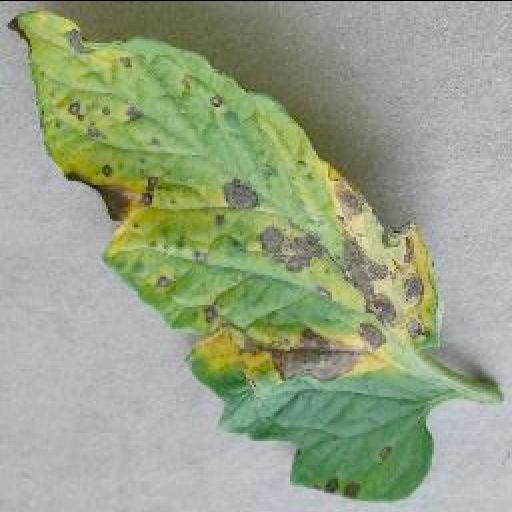disease_tomato: (9, 8, 443, 500)
